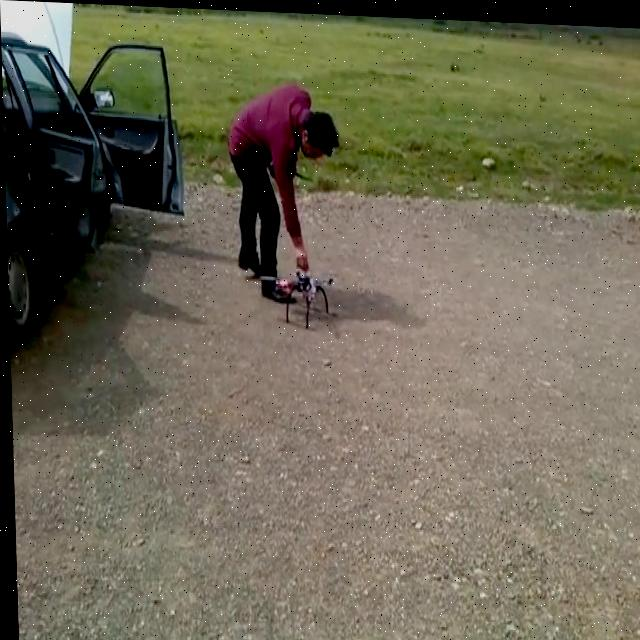drone: (258, 260, 335, 320)
